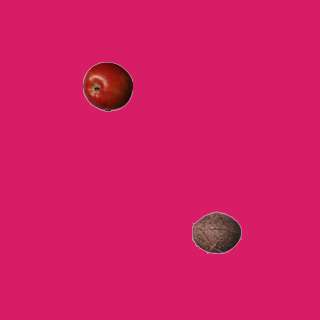Apple Braeburn: (82, 61, 132, 111)
Cocos: (191, 207, 241, 257)
